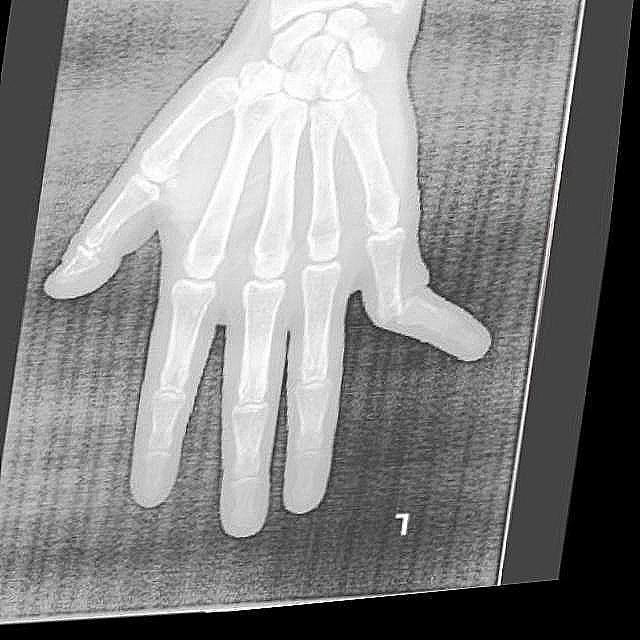bone: (385, 301, 431, 341)
